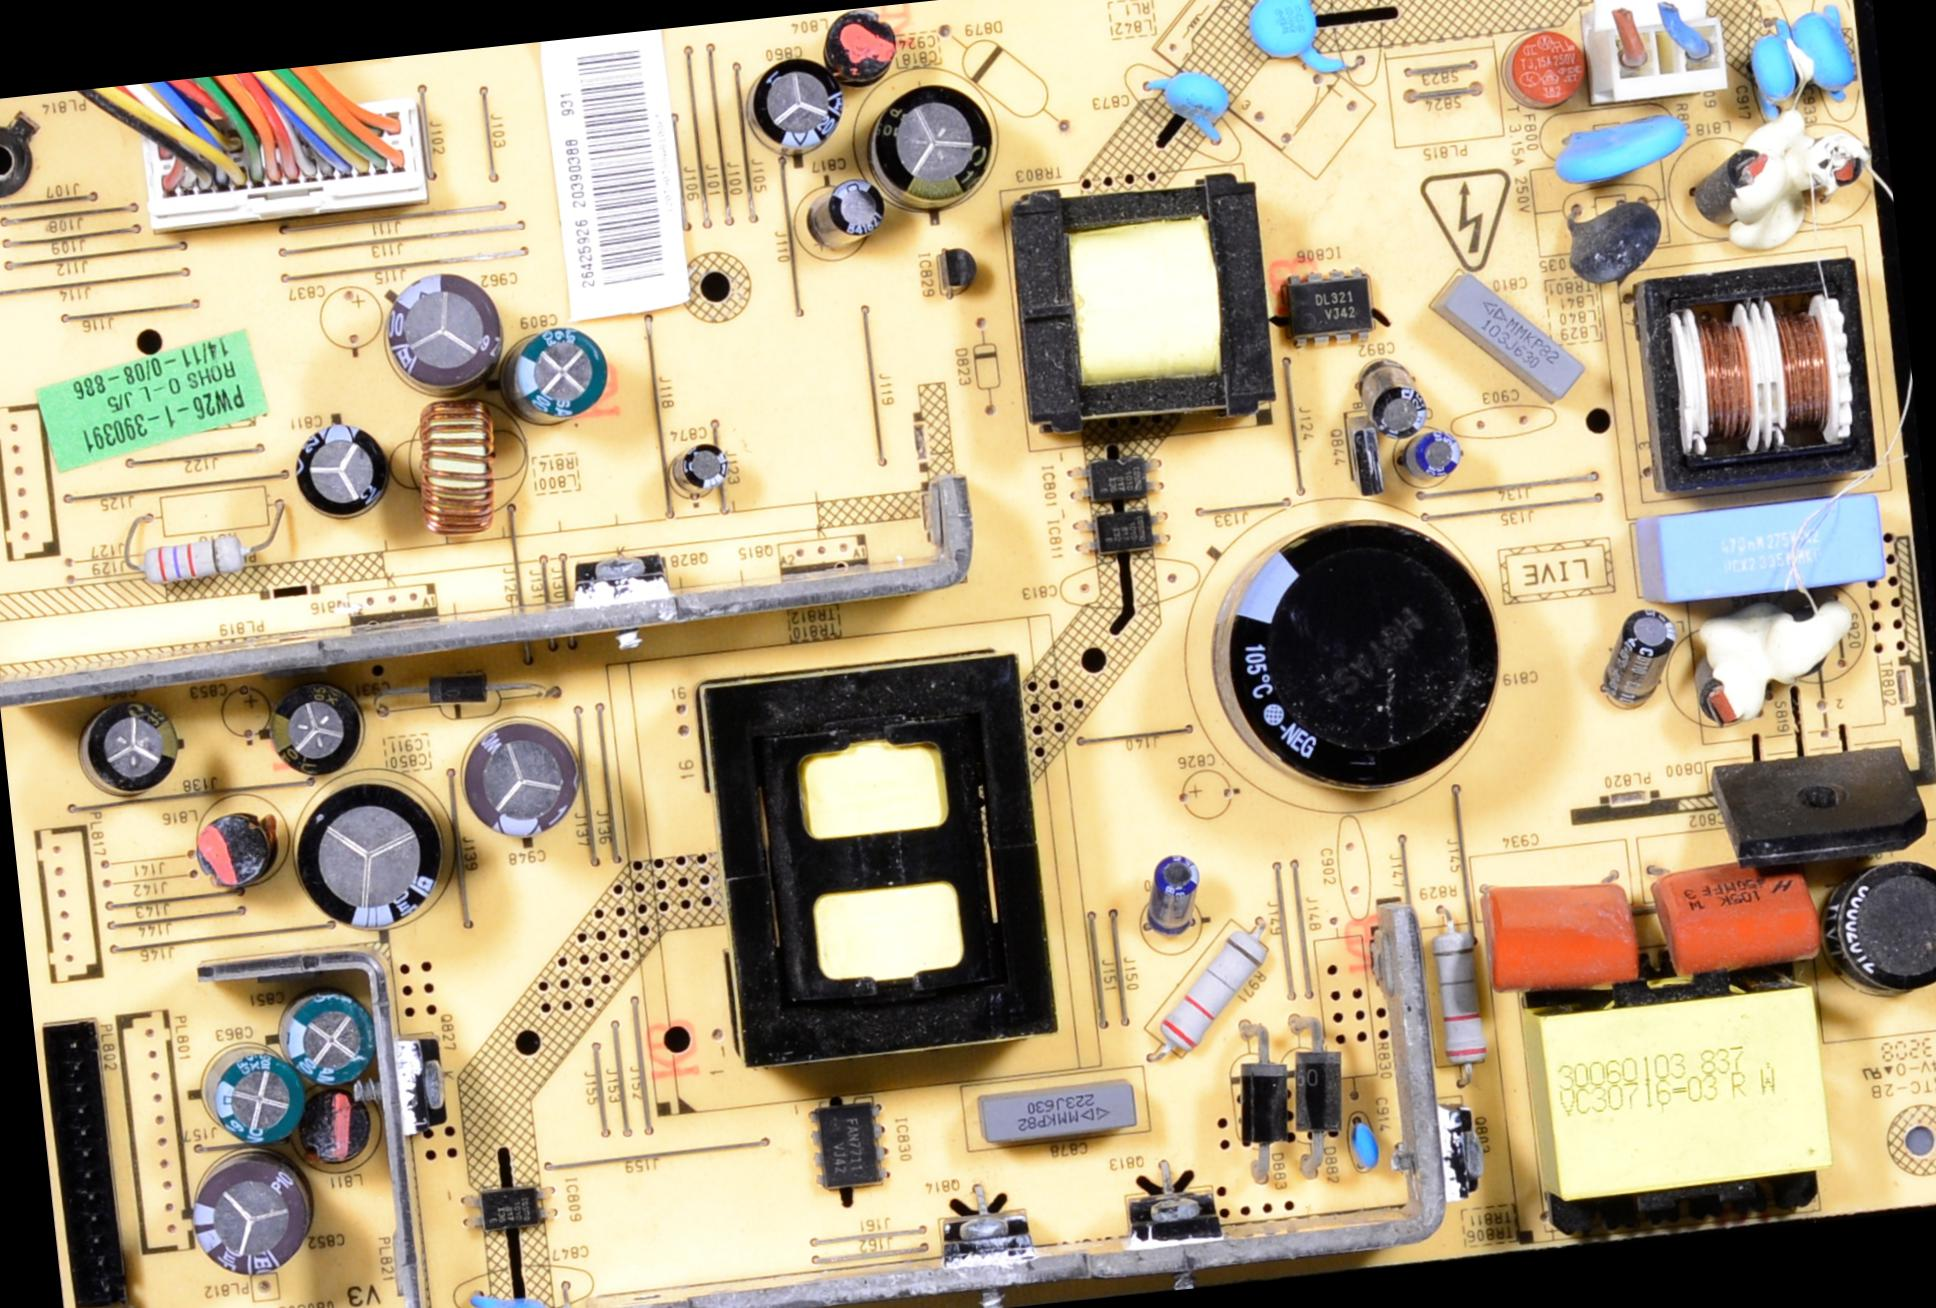Capacitor Jumper: (1178, 518, 1529, 804), (1650, 836, 1824, 990), (1479, 857, 1645, 1004), (295, 784, 454, 927), (861, 74, 1007, 220), (184, 1149, 329, 1296), (1437, 266, 1571, 410), (451, 717, 603, 844), (383, 270, 512, 407), (1828, 861, 1935, 1015), (733, 57, 863, 178), (496, 299, 616, 431), (978, 1074, 1140, 1158), (1548, 177, 1662, 295), (277, 984, 381, 1093), (76, 701, 190, 794), (1594, 603, 1689, 712), (298, 418, 391, 528), (206, 1048, 310, 1143), (267, 690, 371, 785), (1260, 0, 1383, 73), (1353, 337, 1440, 436), (1697, 133, 1791, 220), (1136, 61, 1234, 146), (1148, 848, 1222, 945), (1800, 7, 1866, 108), (818, 174, 899, 254), (1740, 26, 1806, 121), (1399, 418, 1469, 492), (475, 1266, 585, 1307), (1346, 1121, 1406, 1194), (661, 435, 730, 498)
Connector: (39, 1019, 156, 1302)
IC: (800, 1092, 917, 1206), (1276, 263, 1381, 350), (467, 1175, 562, 1244), (1070, 501, 1175, 558), (1070, 455, 1172, 509), (934, 244, 977, 299)
Resistor Jumper: (1146, 934, 1270, 1051), (126, 514, 274, 604), (1424, 915, 1504, 1073)
Transistor: (569, 545, 688, 601), (340, 578, 444, 628), (769, 531, 869, 580), (1342, 412, 1388, 496)
